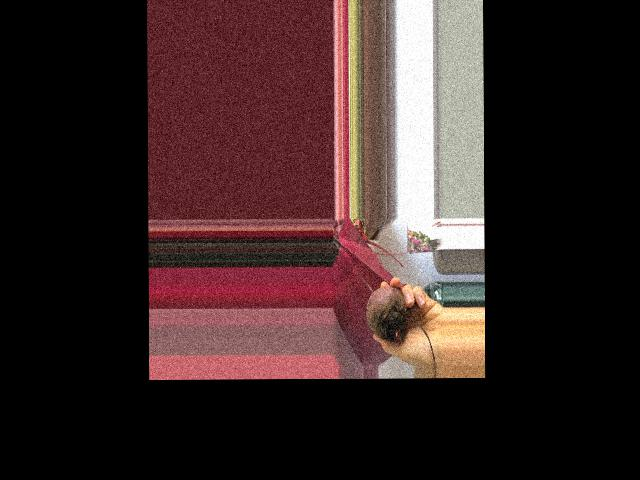beet: (358, 274, 436, 365)
